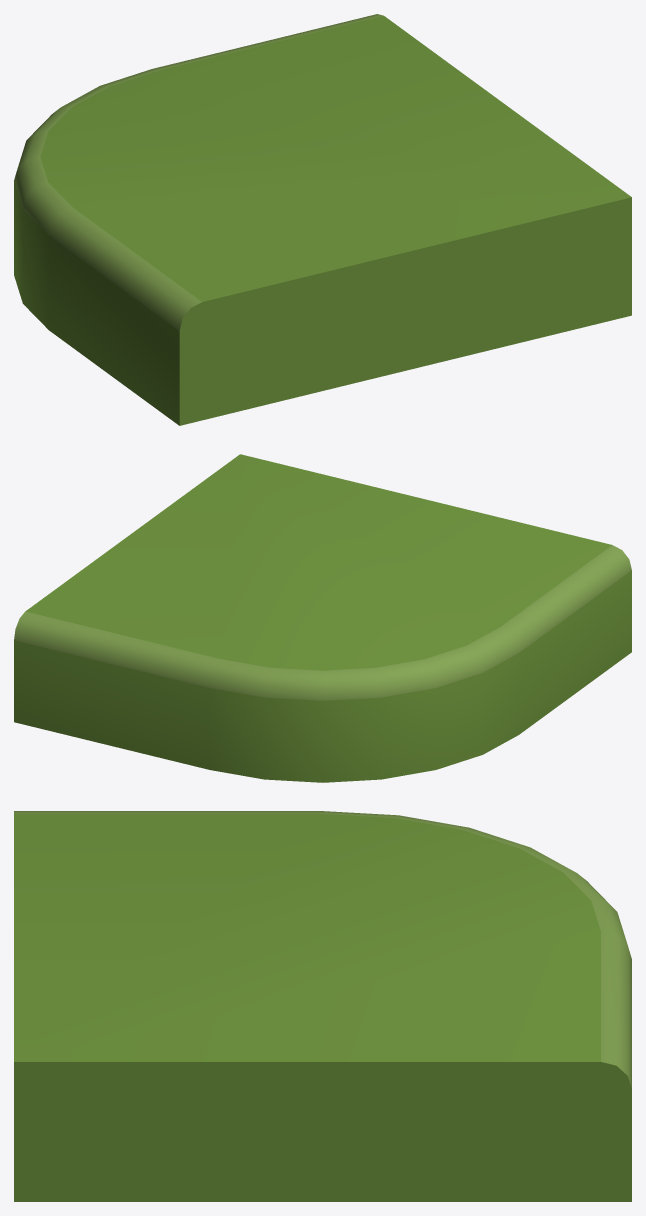
The model's file is itch_tiny_pretty_park_floor_grass_sliced_a.glb.
3 views of the same model, one above another, from view 1: azimuth 30°, elevation 25°; view 2: azimuth 150°, elevation 25°; view 3: azimuth 270°, elevation 25° (orthographic). The views are drawn at different scales.
Parts seen in each view (by area): view 1: floor_grass_sliced_A; view 2: floor_grass_sliced_A; view 3: floor_grass_sliced_A.
Boxes of the visible parts, x1,y1,x2,y2 form: floor_grass_sliced_A: (14, 14, 631, 425); floor_grass_sliced_A: (14, 454, 631, 782); floor_grass_sliced_A: (14, 811, 631, 1201).
Bounding box in the file's own units: 1.52 × 0.38 × 1.52.
